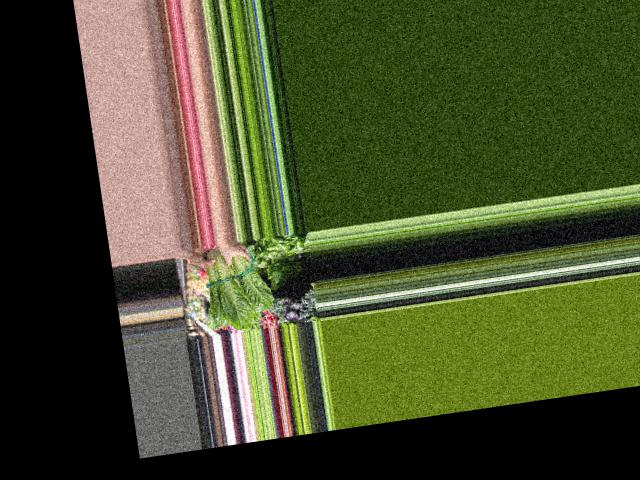lettuce: (199, 236, 277, 330)
